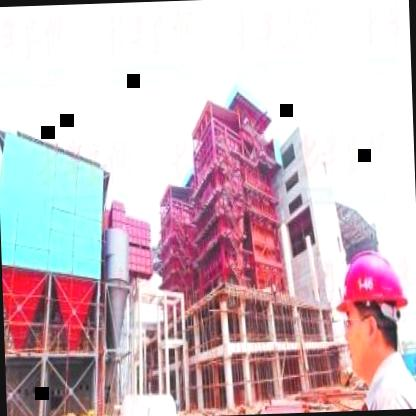helmet: (332, 235, 416, 374)
